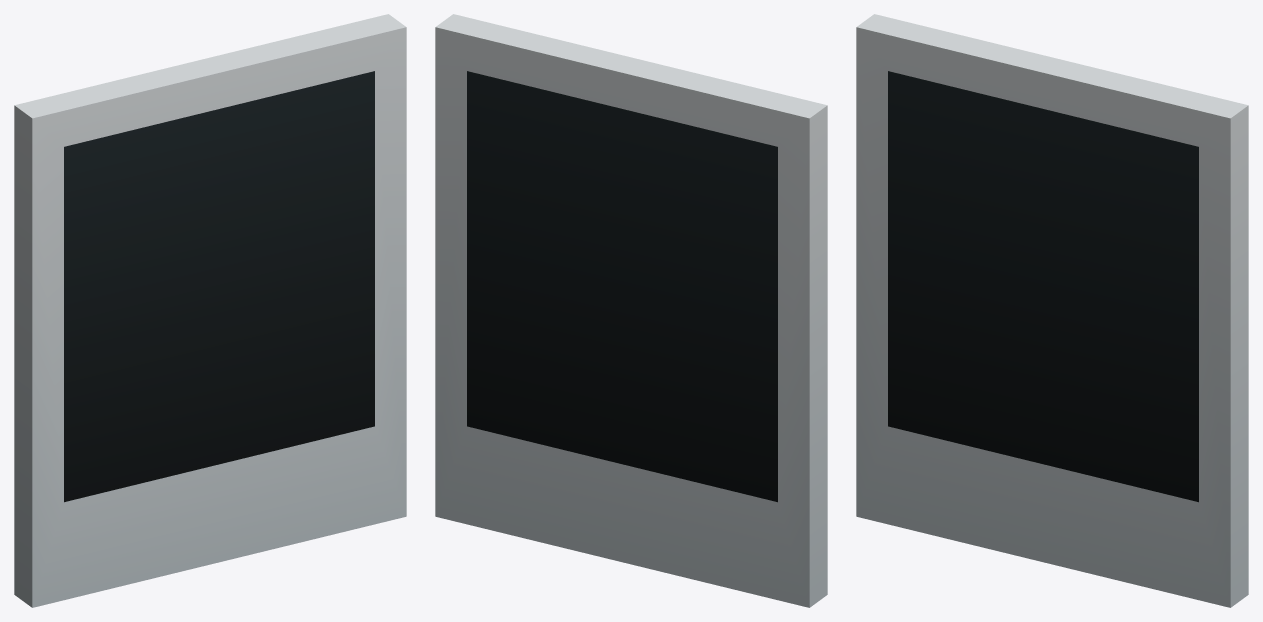
File: instantcamera_picture_B.fbx
The picture shows the model from 3 angles, left to right: view 1: azimuth 30°, elevation 25°; view 2: azimuth 150°, elevation 25°; view 3: azimuth 330°, elevation 25°; orthographic projection.
Visible parts, largest first — view 1: instantcamera_picture_B; view 2: instantcamera_picture_B; view 3: instantcamera_picture_B.
Boxes of the visible parts, x1=… form: instantcamera_picture_B: x1=14, y1=14, x2=406, y2=607; instantcamera_picture_B: x1=435, y1=14, x2=827, y2=607; instantcamera_picture_B: x1=856, y1=14, x2=1248, y2=607.
Bounding box in the file's own units: 34.19 × 42.74 × 2.85.
